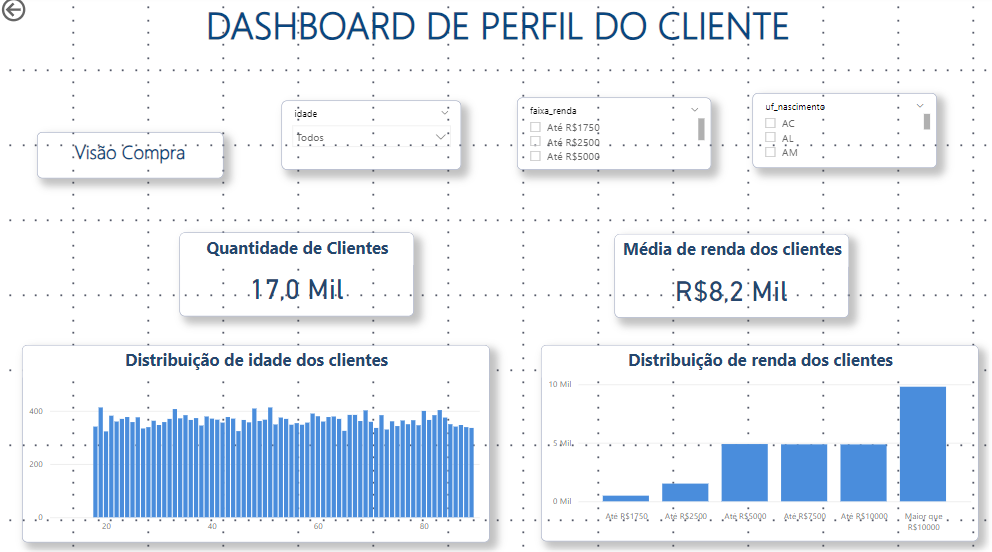

The dashboard page shown, as its layout file describes it:
{"tool":"powerbi","page":{"name":"Dashboard do Cliente","canvas":[1280,720],"ordinal":1},"visuals":[{"type":"columnChart","title":"Distribuição de renda dos clientes","fields":{"Category":["Base cliente.faixa_renda"],"Y":["CountNonNull(Base cliente.faixa_renda)"]},"box":[695.7,450,560,251.4],"z":0},{"type":"card","title":"Quantidade de Clientes","fields":{"Values":["Count(Base cliente.cliente_Log)"]},"box":[231.4,305.7,300,107.1],"z":1000},{"type":"card","title":"Média de renda dos clientes","fields":{"Values":["Avg(Base cliente.renda)"]},"box":[788.6,307.1,300,107.1],"z":2000},{"type":"columnChart","title":"Distribuição de idade dos clientes","fields":{"Y":["Count(Base cliente.cliente_Log)"],"Category":["Base cliente.idade"]},"box":[31.4,448.6,598.6,252.9],"z":3000},{"type":"slicer","fields":{"Values":["Base cliente.uf_nascimento"]},"box":[965.7,127.1,235.7,95.7],"z":4000},{"type":"slicer","fields":{"Values":["Base cliente.faixa_renda"]},"box":[664.3,132.9,248.6,92.9],"z":5000},{"type":"slicer","fields":{"Values":["Base cliente.idade"]},"box":[362.9,135.7,230,88.6],"z":6000},{"type":"actionButton","box":[0,0,100,40],"z":7000},{"type":"textbox","box":[0,0,1280,117.1],"z":8000},{"type":"textbox","box":[49.6,176.4,238.4,59.3],"z":9000}]}

Visuals, with their boxes on the page's 1280x720 design canvas (x1, y1, x2, y2). These are canvas units, not pixel positions in the 992x552 screenshot, which may show the page scaled, cropped or inside an application window:
"Distribuição de renda dos clientes" columnChart: locate(696, 450, 1256, 701)
"Quantidade de Clientes" card: locate(231, 306, 531, 413)
"Média de renda dos clientes" card: locate(789, 307, 1089, 414)
"Distribuição de idade dos clientes" columnChart: locate(31, 449, 630, 702)
slicer - Base cliente.uf_nascimento: locate(966, 127, 1201, 223)
slicer - Base cliente.faixa_renda: locate(664, 133, 913, 226)
slicer - Base cliente.idade: locate(363, 136, 593, 224)
actionButton: locate(0, 0, 100, 40)
textbox: locate(0, 0, 1280, 117)
textbox: locate(50, 176, 288, 236)
